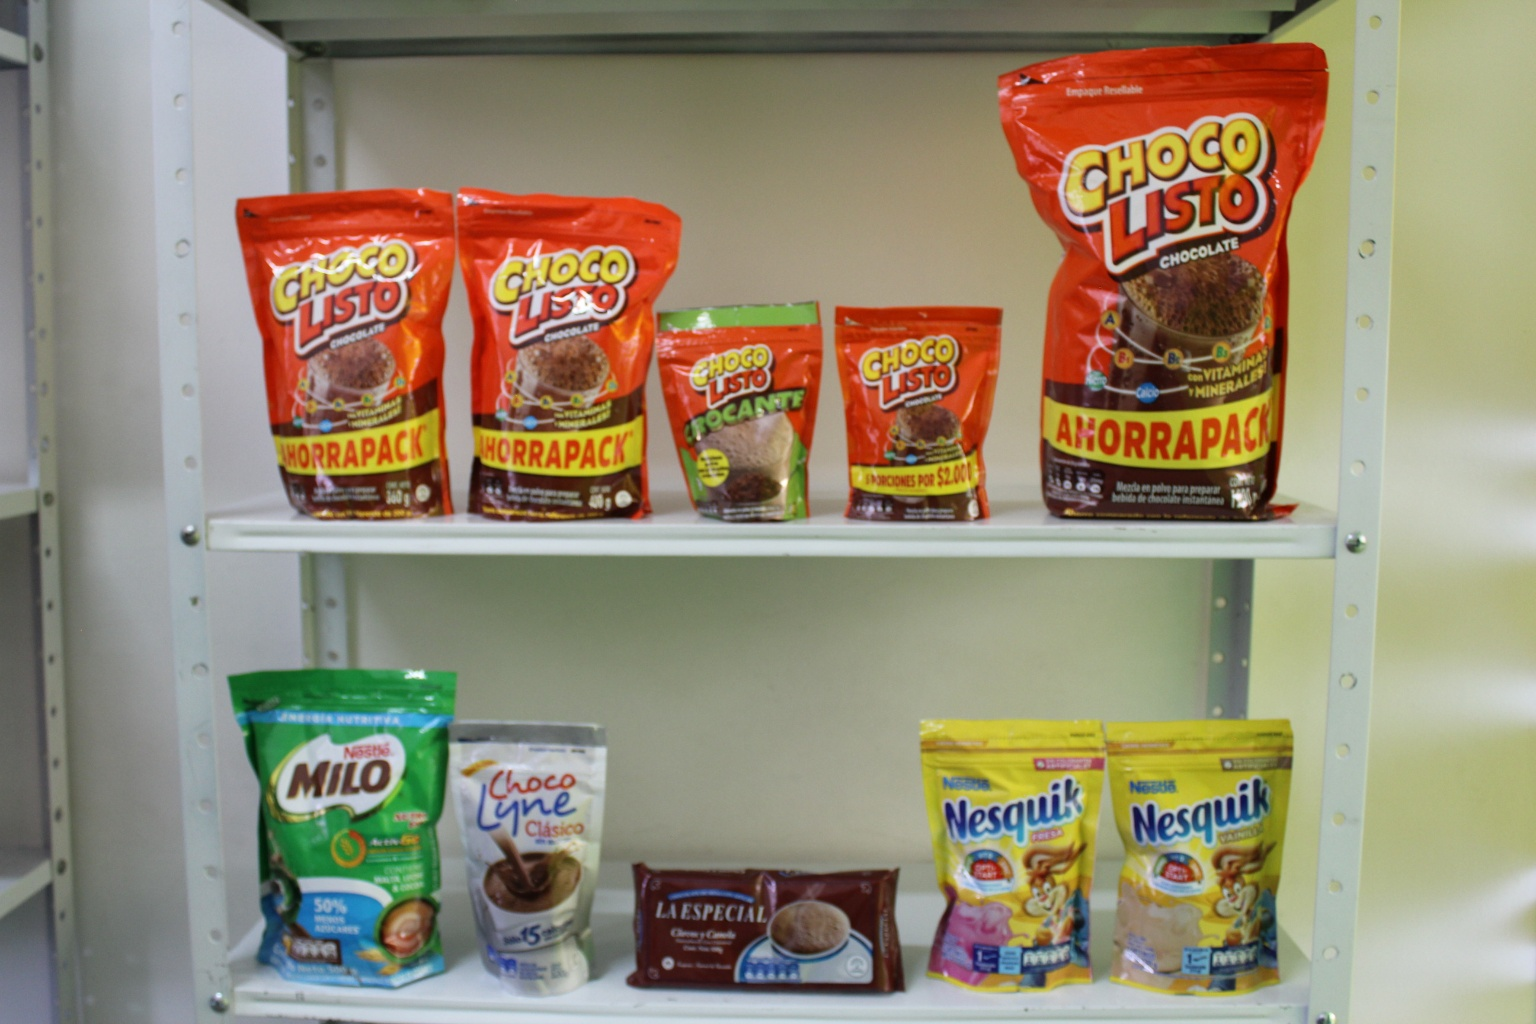COL0170102DYP10000: (649, 294, 824, 521)
COL0170103DYP1,500: (1001, 29, 1333, 523)
COL0170103DYP10000: (837, 297, 1013, 523)
COL0170103DYP36000: (227, 173, 467, 514)
COL0170103DYP40000: (442, 176, 683, 523)
COL0170205DYP50000: (227, 657, 459, 987)
COL0170305DYP20000: (907, 712, 1109, 997)
COL0170306DYP20000: (1090, 707, 1297, 995)
